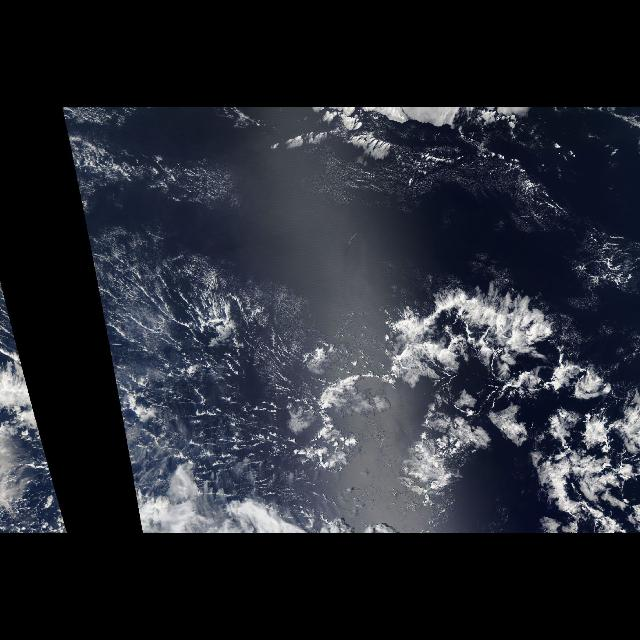Fish: (383, 297, 585, 368)
Flower: (307, 268, 639, 532)
Gravel: (112, 222, 310, 530)
Sugar: (95, 118, 640, 502)
